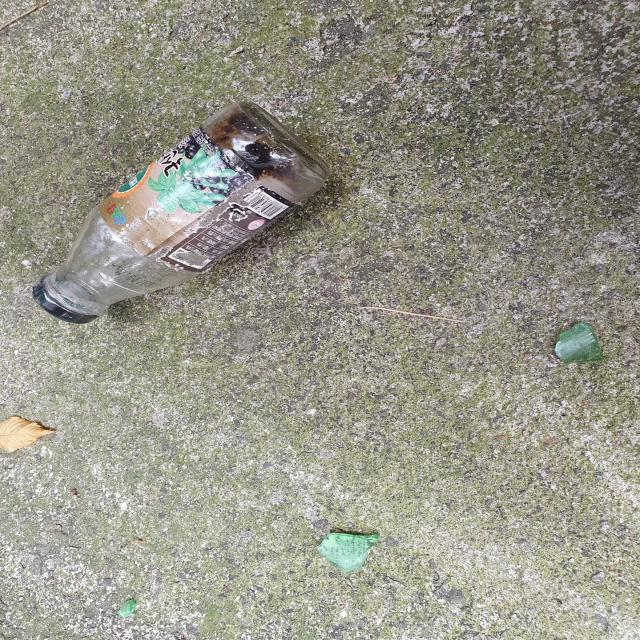glass: (31, 102, 329, 323)
